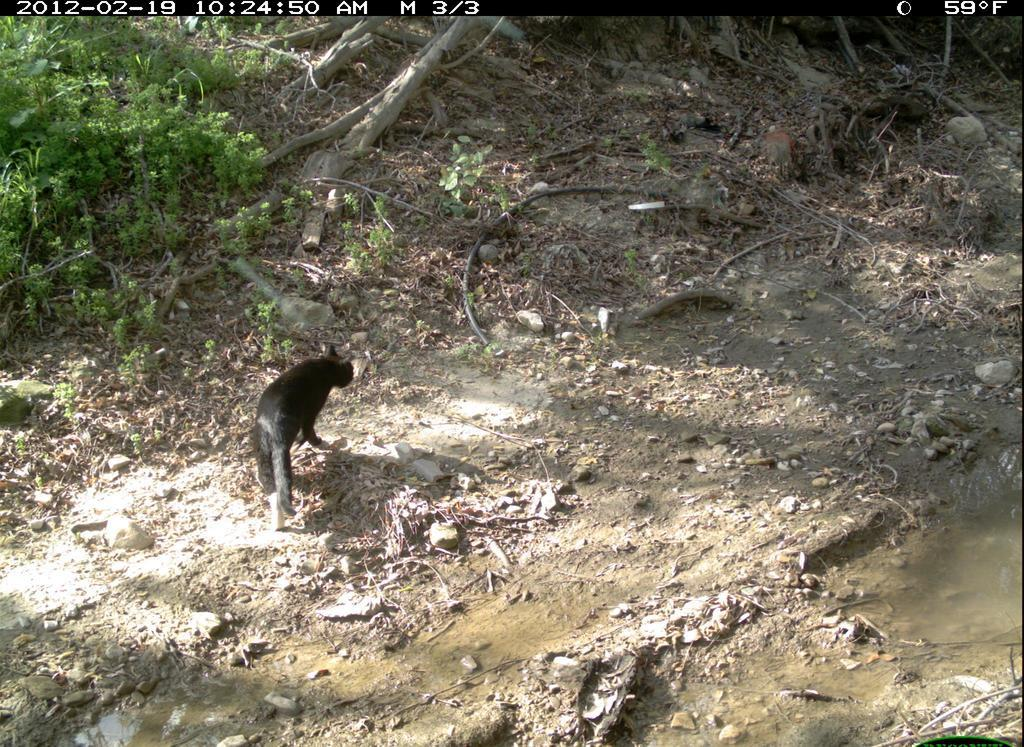cat: (249, 341, 365, 534)
